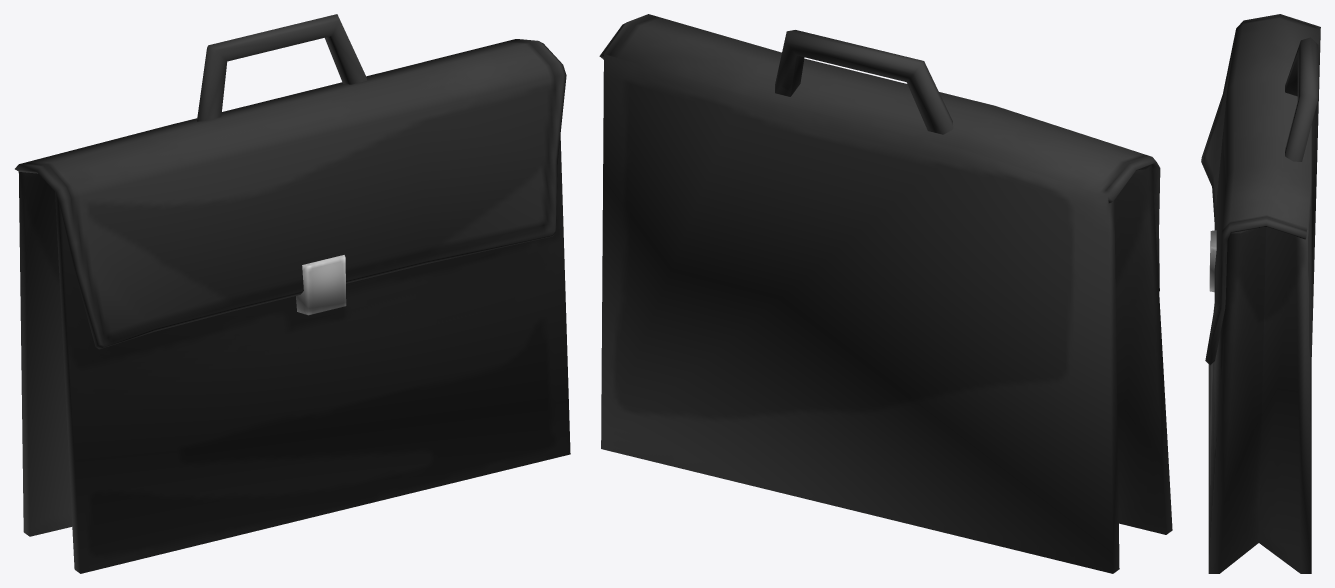
Rendered from Weapon_Briefcase_fbx.FBX.
3 views of the same model, side by side, from view 1: azimuth 30°, elevation 25°; view 2: azimuth 150°, elevation 25°; view 3: azimuth 270°, elevation 25° (orthographic). The views are drawn at different scales.
Parts seen in each view (by area): view 1: Driefcase; view 2: Driefcase; view 3: Driefcase.
Part boxes in pixels (box(x1,y1,x2,y2)): Driefcase: box(15, 14, 570, 573); Driefcase: box(599, 14, 1172, 573); Driefcase: box(1201, 14, 1320, 573).
Size of the model in its own units: 0.3584 by 0.3035 by 0.0821.
